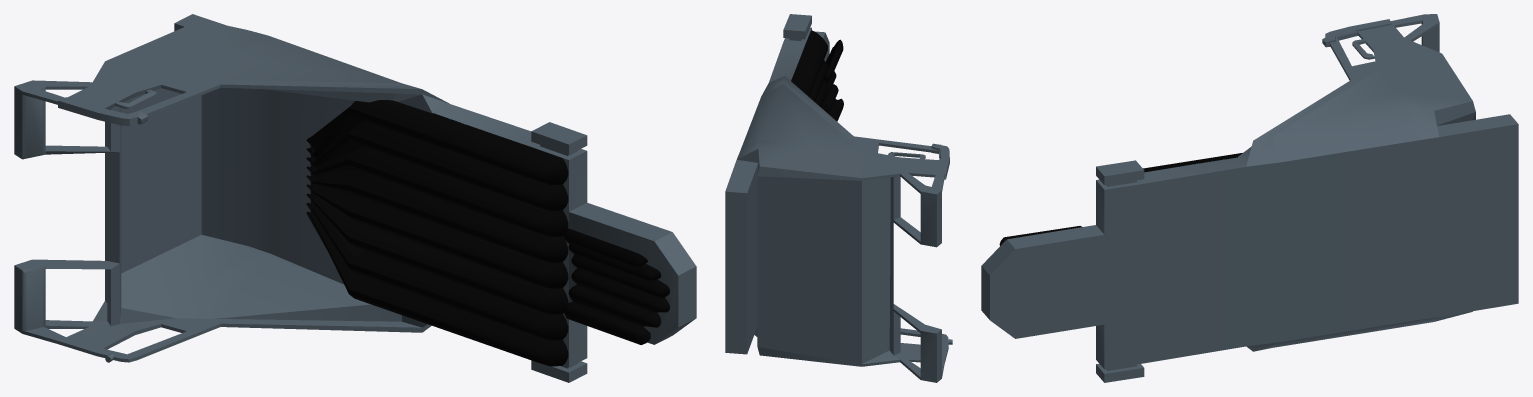
File: Seat.gltf
3 renders of one model, left to right at view 1: azimuth 30°, elevation 25°; view 2: azimuth 150°, elevation 25°; view 3: azimuth 270°, elevation 25°, orthographic. The views are drawn at different scales.
Parts seen in each view (by area): view 1: CP_Seat, CP_SeatDown; view 2: CP_Seat, CP_SeatDown; view 3: CP_Seat, CP_SeatDown.
Boxes of the visible parts, x1,y1,x2,y2 form: CP_Seat: (14,14,696,382); CP_SeatDown: (306,100,669,366); CP_Seat: (725,14,952,382); CP_SeatDown: (791,30,843,121); CP_Seat: (981,14,1518,382); CP_SeatDown: (999,153,1242,245).
Bounding box in the file's own units: 0.8565 × 0.4746 × 1.08.
